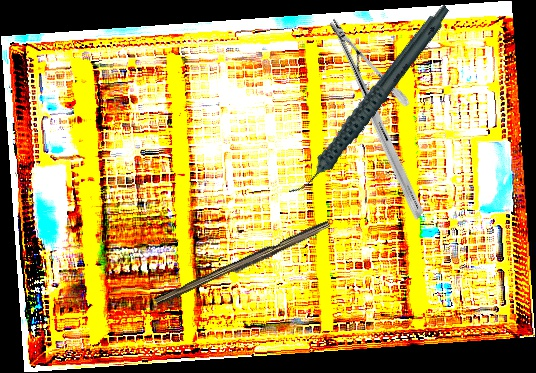Handpiece: (256, 3, 483, 200)
Needle Holder: (266, 16, 486, 221)
Scalpel Handle: (153, 217, 333, 311)
